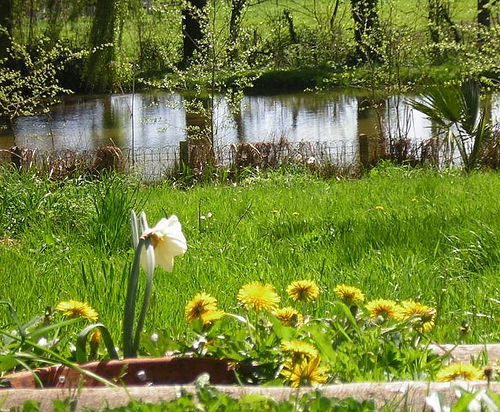dandelion: (183, 287, 227, 338), (236, 273, 284, 318), (276, 334, 322, 380), (49, 294, 107, 328), (360, 292, 403, 331), (282, 272, 327, 309), (329, 279, 366, 310)
